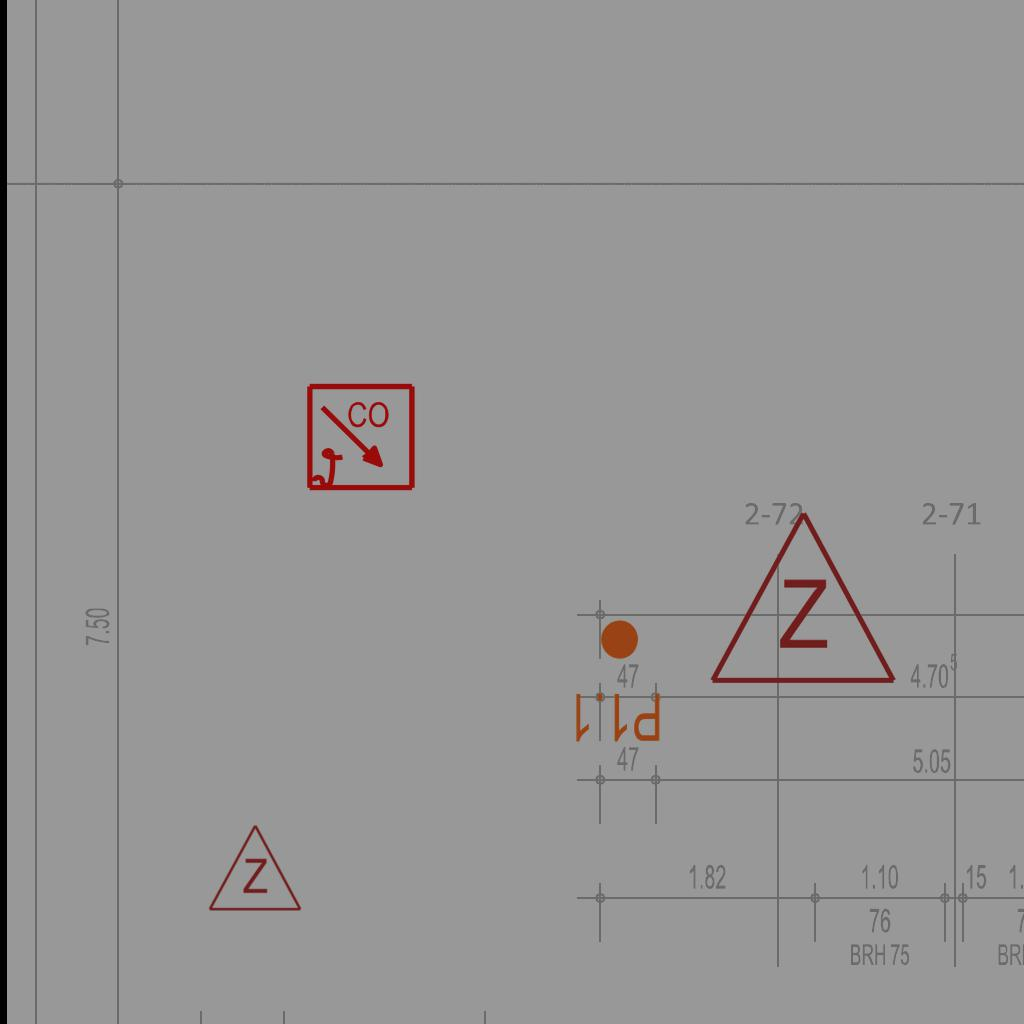Downlight_LED_Einbauleuchten_Flur: (570, 617, 663, 745)
ROA_Rauchmelder_optisch_mit_Signalgeber_(Sockelsirene): (305, 382, 418, 495)
Zimmersignalleuchte: (703, 498, 899, 698), (205, 818, 303, 918)
